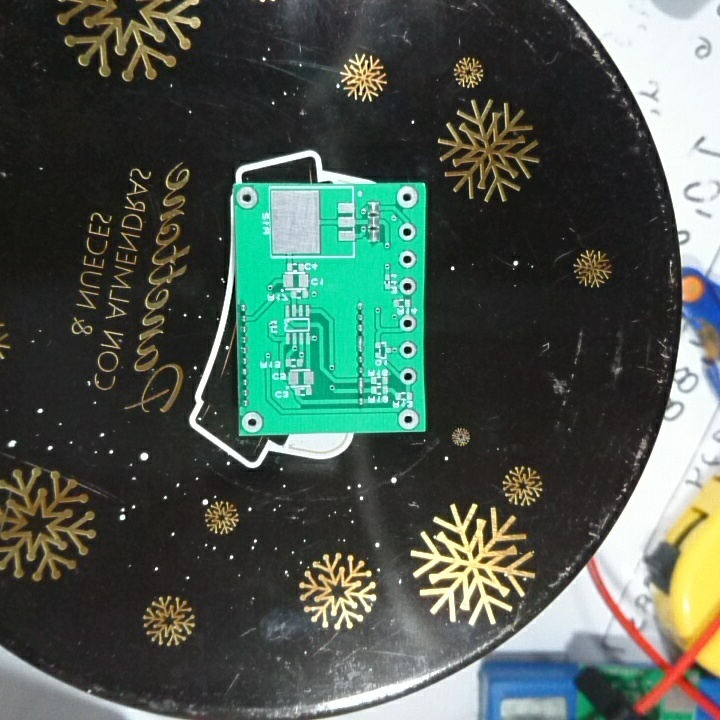F: (395, 183, 420, 210), (234, 185, 260, 208), (396, 406, 420, 430), (241, 409, 264, 433), (399, 366, 419, 387), (397, 249, 416, 269), (397, 276, 417, 295), (398, 221, 416, 241), (399, 313, 416, 334), (399, 340, 417, 359)
P: (355, 334, 365, 354), (356, 375, 364, 393)
